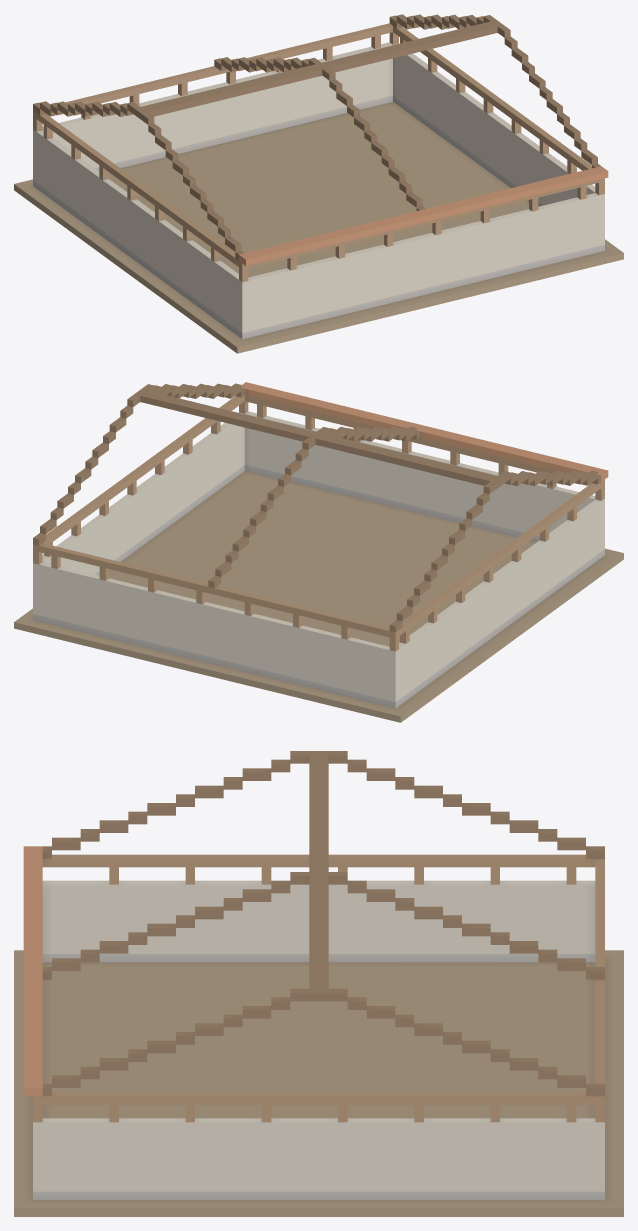
File: life_stage_8.v2.glb
3 renders of one model, top to bottom at view 1: azimuth 30°, elevation 25°; view 2: azimuth 150°, elevation 25°; view 3: azimuth 270°, elevation 25°, orthographic. The views are drawn at different scales.
Visible parts, largest first — view 1: life_stage_8; view 2: life_stage_8; view 3: life_stage_8.
Part boxes in pixels (x1,y1,x2,y2): life_stage_8: (14, 14, 623, 353); life_stage_8: (14, 382, 623, 722); life_stage_8: (14, 751, 623, 1216).
Size of the model in its own units: 8 by 3.12 by 8.
